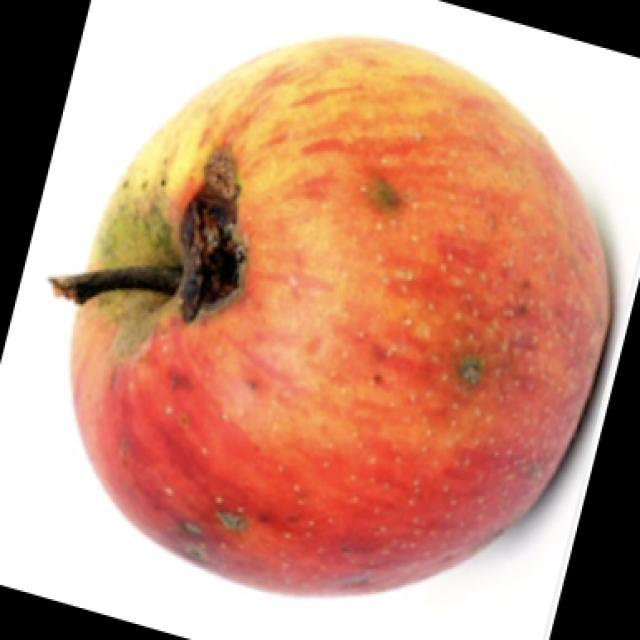Rotten: (93, 46, 600, 616)
